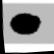correct: (4, 8, 43, 38)
